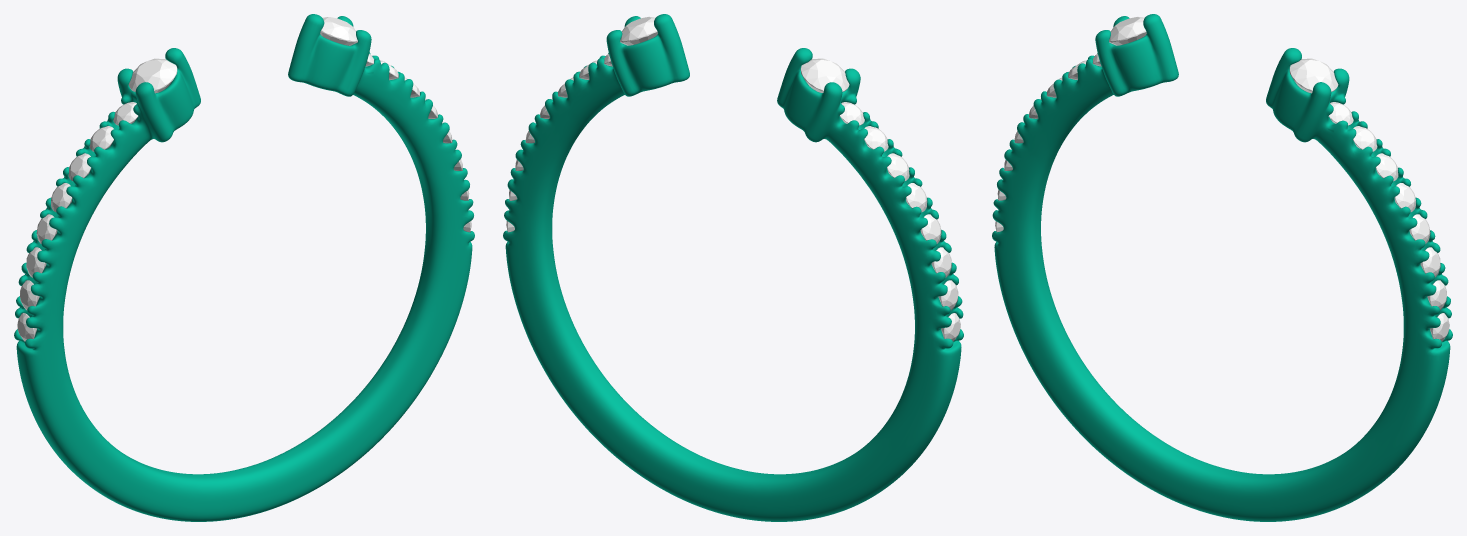
File: BE2D126P_RENDER.glb
3 renders of one model, left to right at view 1: azimuth 30°, elevation 25°; view 2: azimuth 150°, elevation 25°; view 3: azimuth 330°, elevation 25°, orthographic.
Visible parts, largest first — view 1: Metal03, Diamond_Round_Gem_BD, Diamond_Round_Gem_BD.009; view 2: Metal03, Diamond_Round_Gem_BD, Diamond_Round_Gem_BD.009; view 3: Metal03, Diamond_Round_Gem_BD.009, Diamond_Round_Gem_BD.
Part boxes in pixels (box(x1,y1,x2,y2)): Metal03: box(14, 14, 474, 521); Diamond_Round_Gem_BD: box(128, 58, 177, 93); Diamond_Round_Gem_BD.009: box(320, 17, 357, 45); Metal03: box(503, 14, 963, 521); Diamond_Round_Gem_BD: box(800, 58, 849, 92); Diamond_Round_Gem_BD.009: box(620, 16, 657, 45); Metal03: box(992, 14, 1452, 521); Diamond_Round_Gem_BD.009: box(1289, 58, 1338, 93); Diamond_Round_Gem_BD: box(1109, 17, 1146, 45).
Size of the model in its own units: 20.1 by 20.58 by 2.31.
